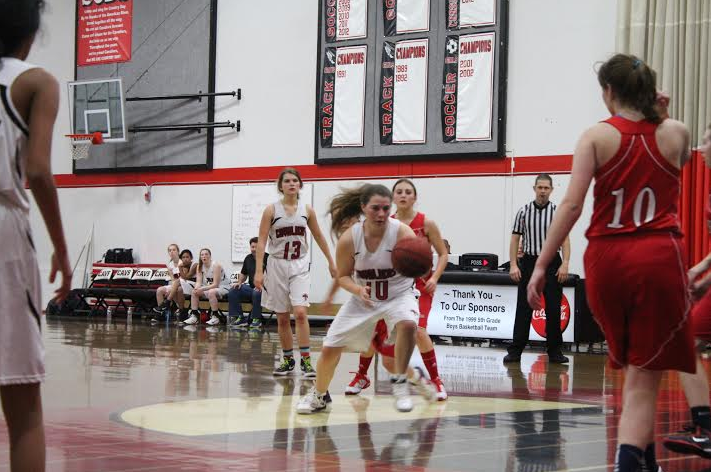ball: (391, 236, 434, 279)
basket: (66, 132, 95, 159)
player: (530, 58, 696, 468), (1, 2, 72, 452), (303, 185, 419, 412), (355, 178, 445, 395), (256, 169, 327, 379), (505, 174, 569, 368)
